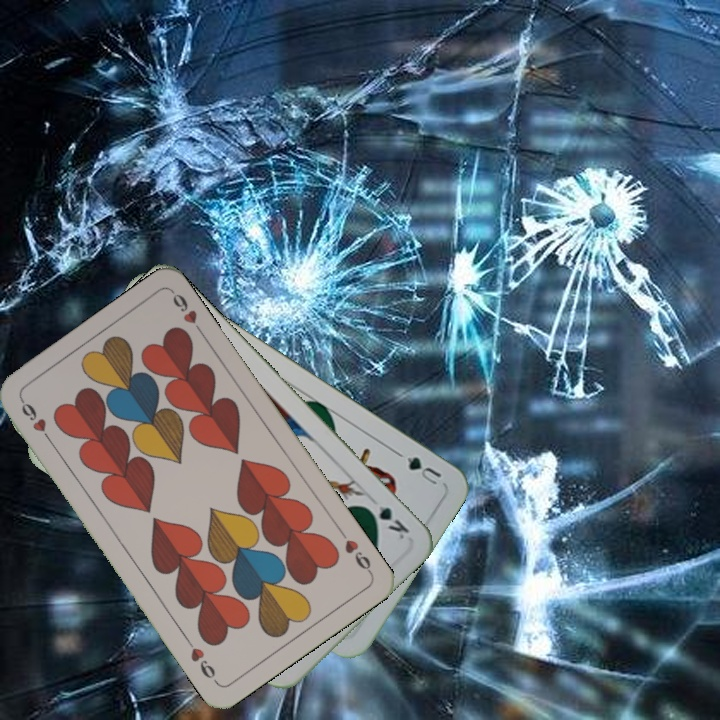GK: (361, 501, 412, 542)
GU: (402, 452, 444, 488)
H9: (335, 525, 375, 577), (16, 395, 56, 447)
